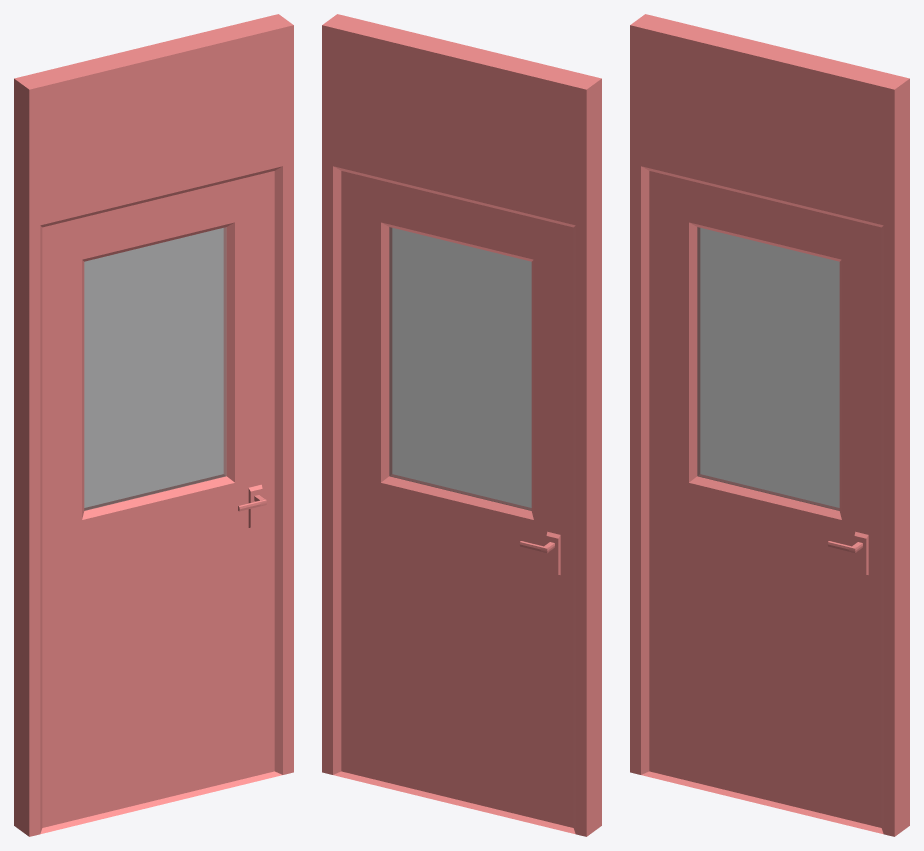
File: Doorway.FBX
The picture shows the model from 3 angles, left to right: view 1: azimuth 30°, elevation 25°; view 2: azimuth 150°, elevation 25°; view 3: azimuth 330°, elevation 25°; orthographic projection.
Parts seen in each view (by area): view 1: Door; view 2: Door; view 3: Door.
Boxes of the visible parts, left/top/right/bottom form: Door: left=14, top=14, right=293, bottom=836; Door: left=322, top=14, right=601, bottom=836; Door: left=630, top=14, right=909, bottom=836.
Size of the model in its own units: 1 by 2.7 by 0.182.
